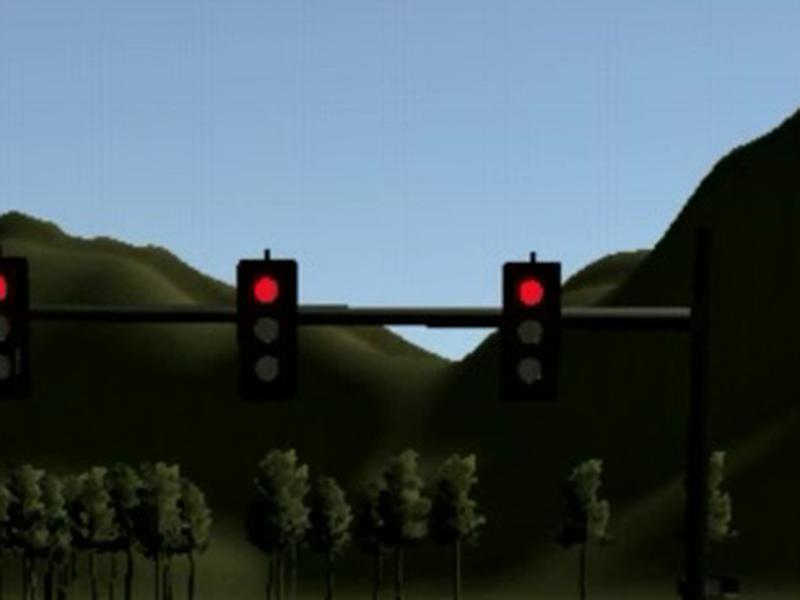Red: (502, 261, 562, 393), (238, 260, 297, 393), (1, 257, 29, 387)
